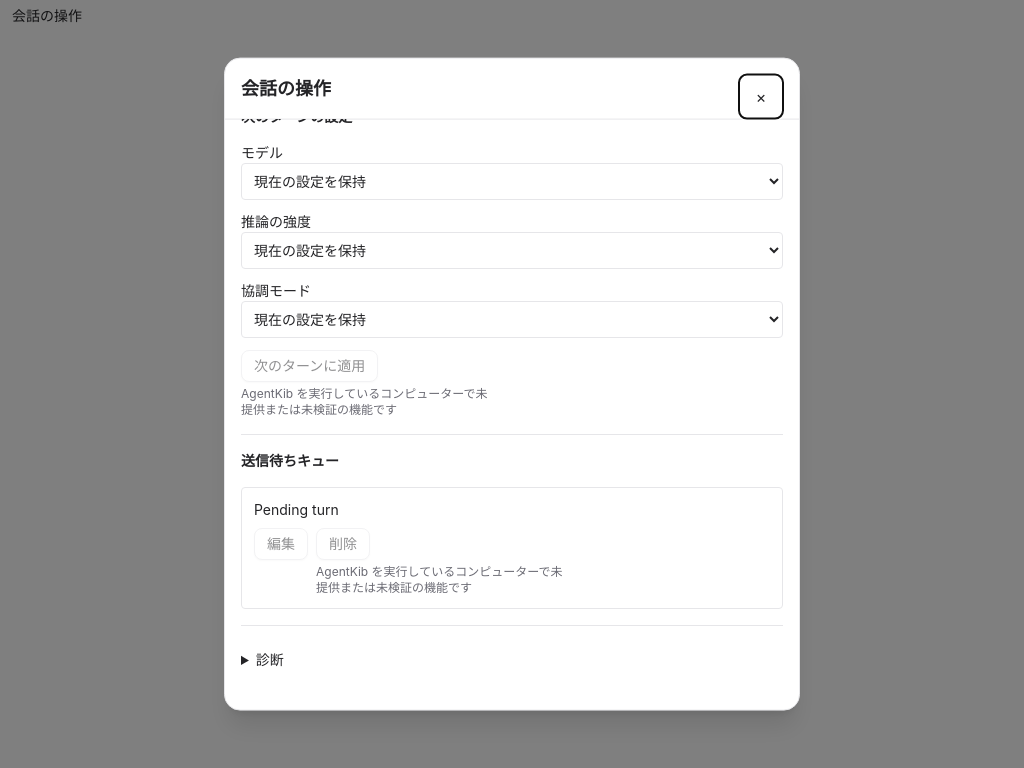
Test: keeps Codex operations focused on session management and automatic queues in ja-JP
(page scrolled)
Check: the text "Pending turn" is shown, box [254,501,339,518]
Check: the heading "送信待ちキュー" is shown, box [241,452,339,469]
Step 1. Click the heading "診断" → coordinates (270, 659), box [256,651,284,668]
(page scrolled)
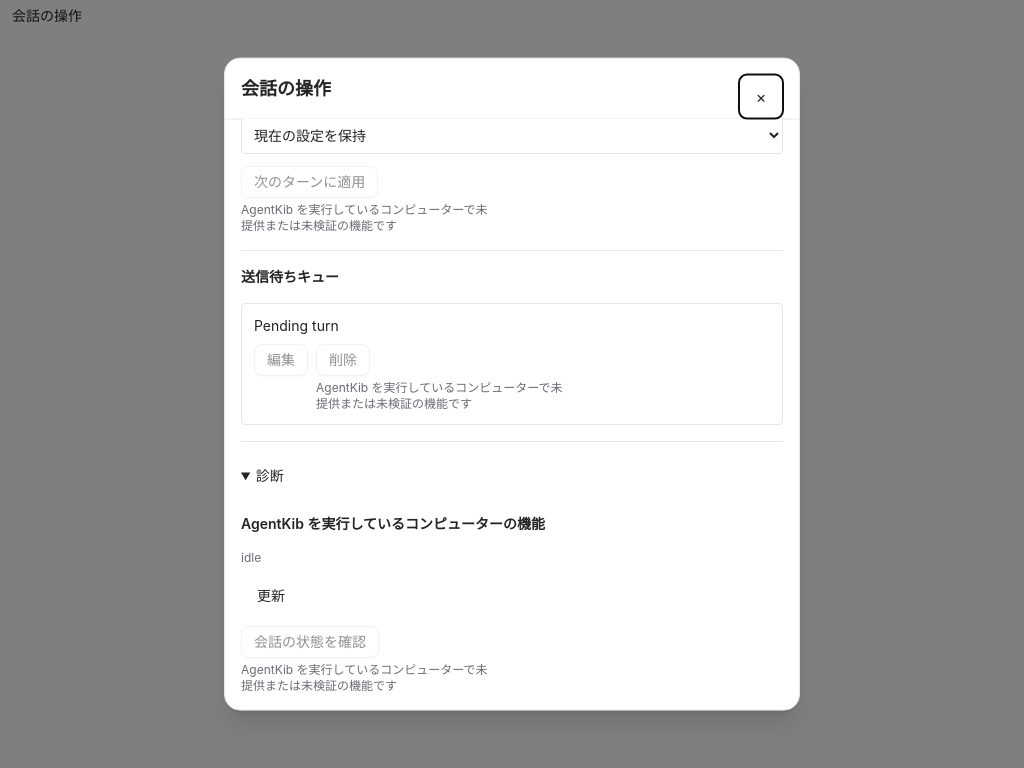
Check: the button "会話の状態を確認" is shown, box [241,626,379,658]
